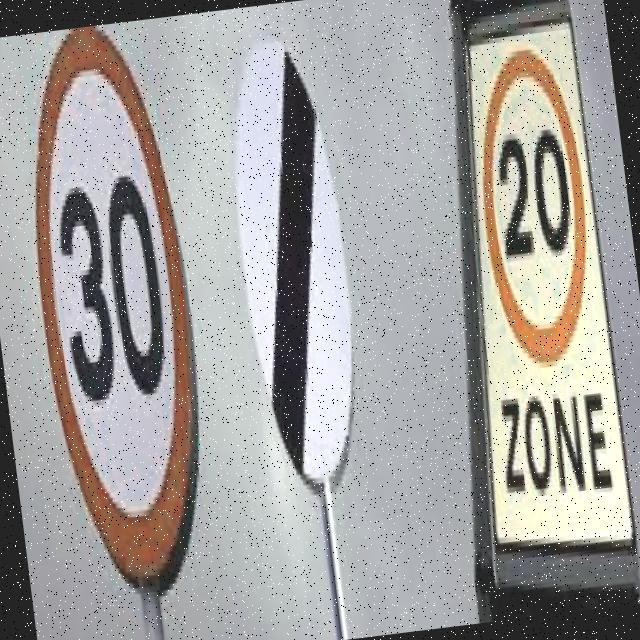Ograniczenie predkosci do 30: (9, 39, 232, 607)
